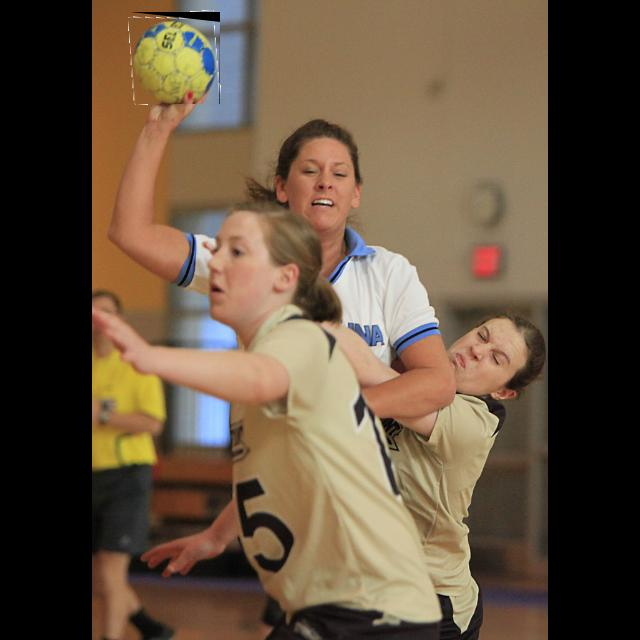Football: (130, 12, 220, 104)
